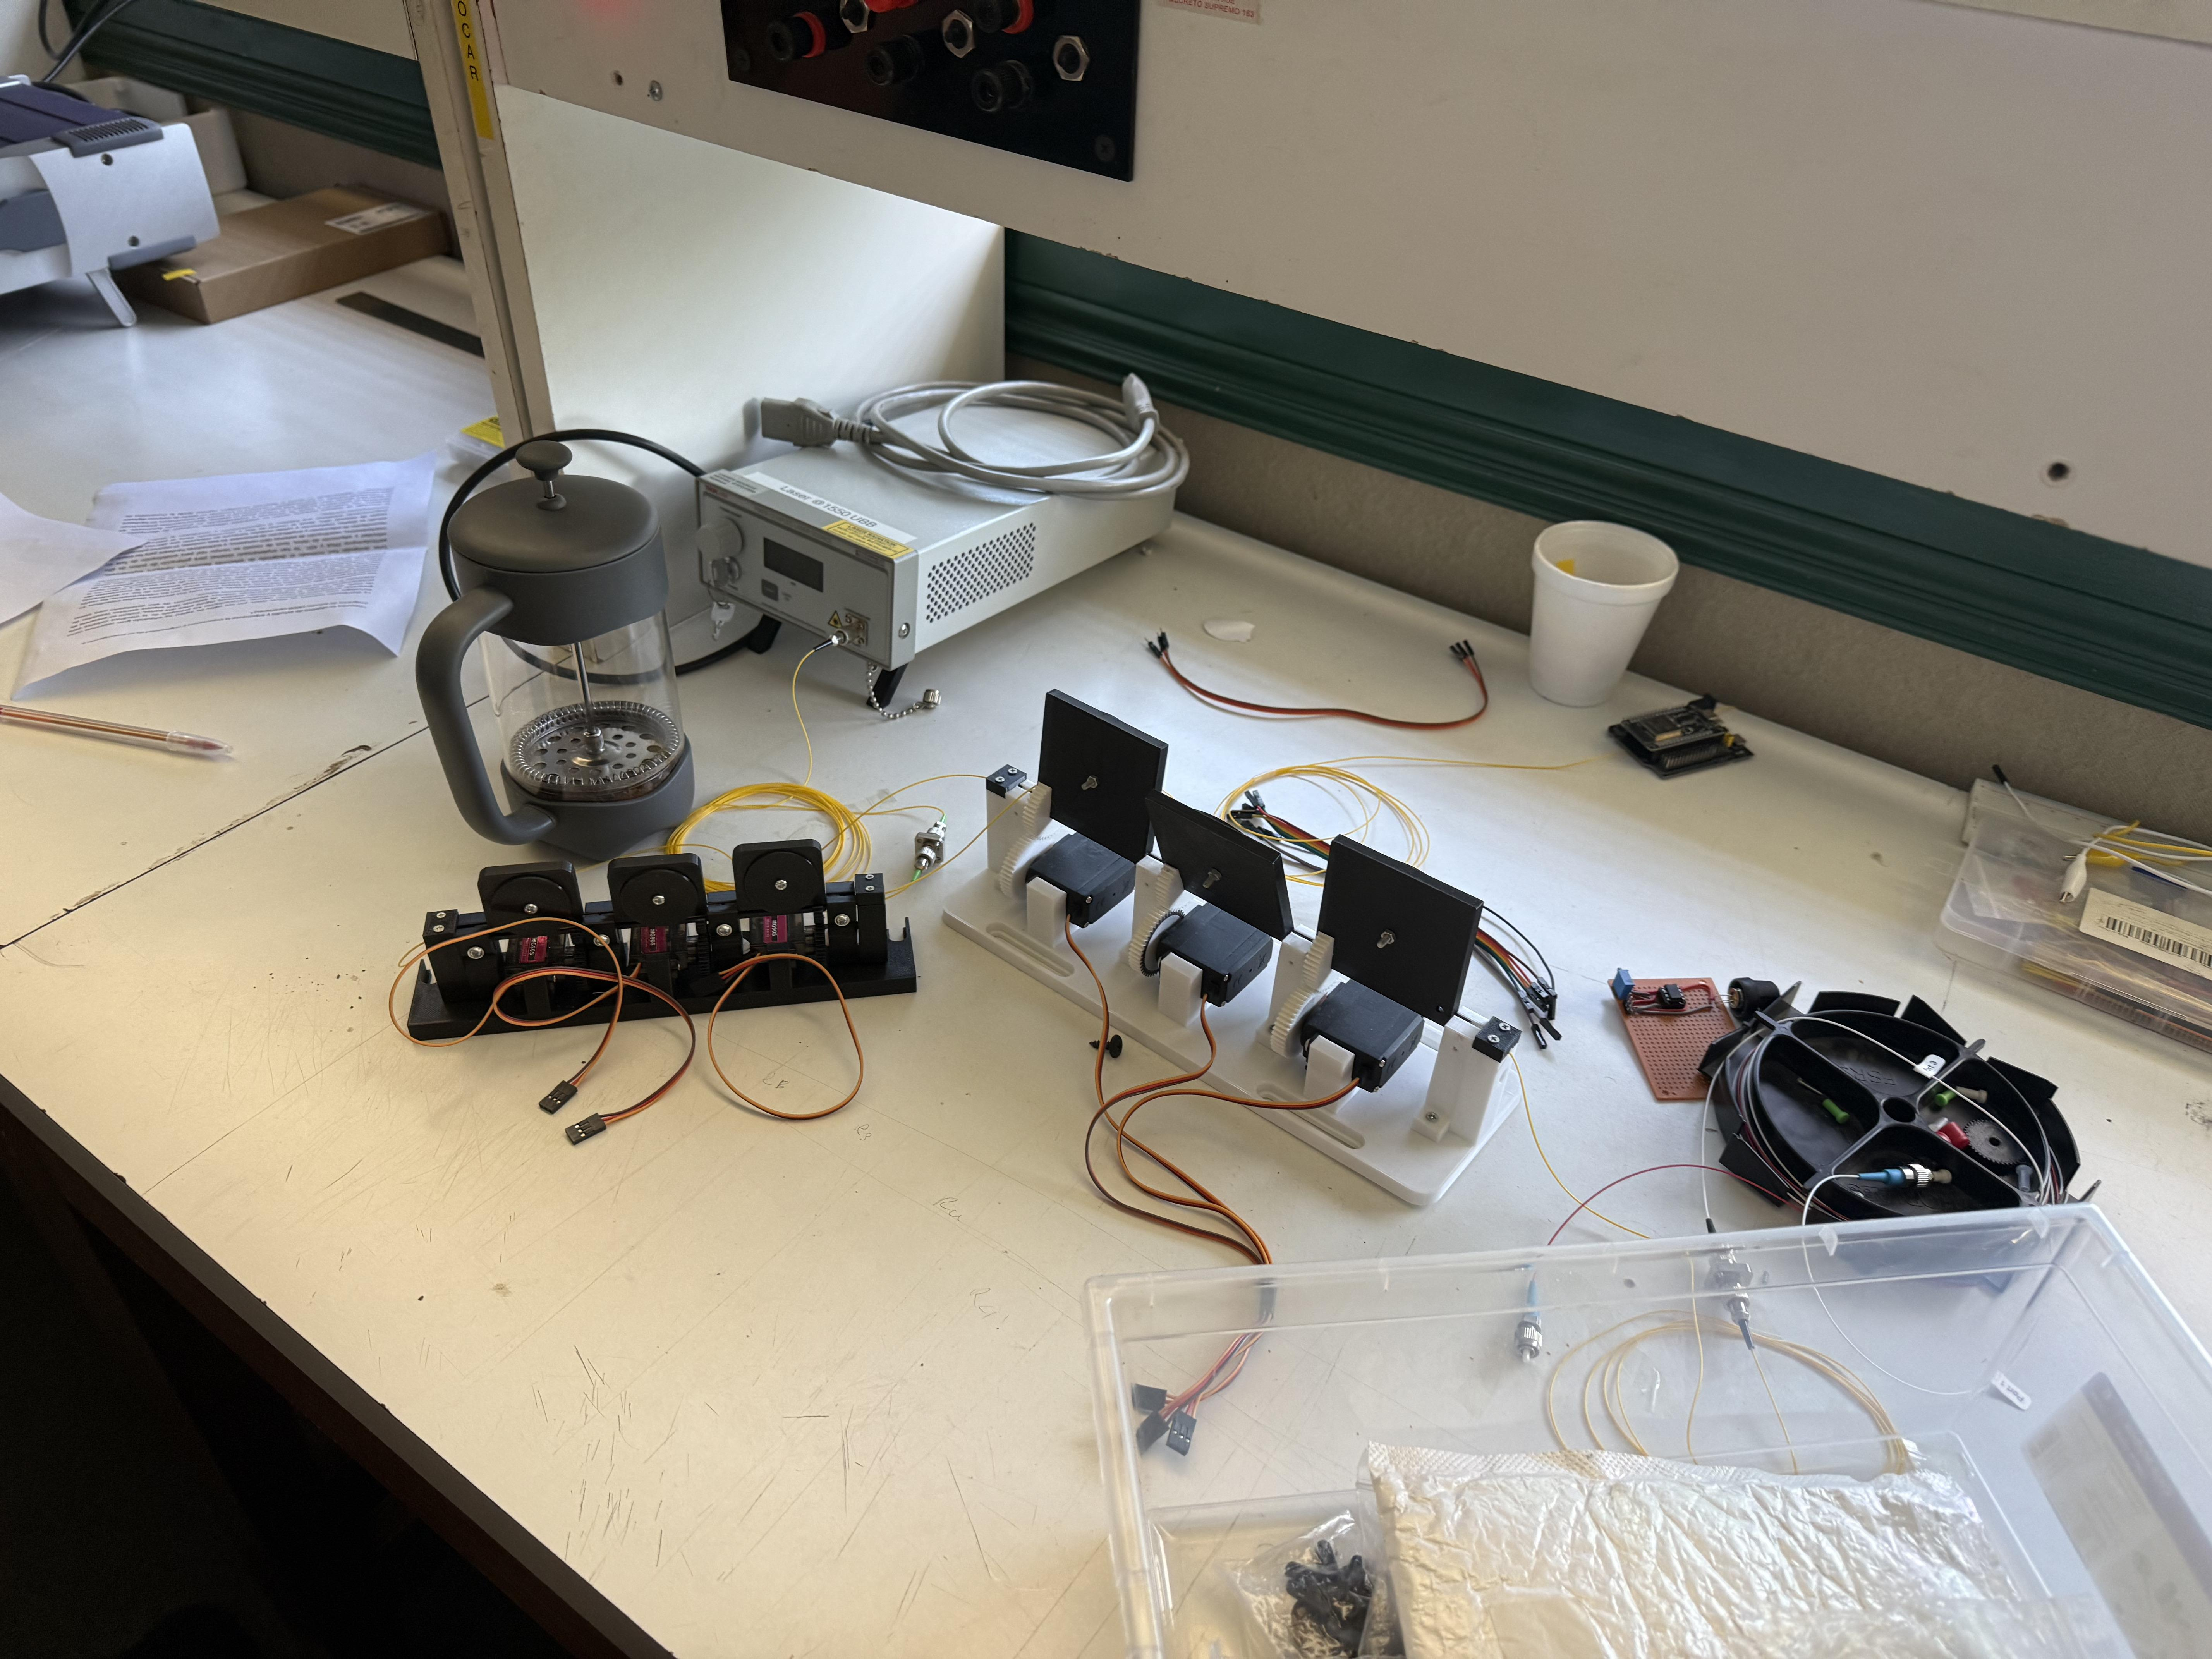laser: (691, 378, 1191, 690)
paddle_polarization_controller: (930, 674, 1538, 1223), (401, 835, 923, 1046)
